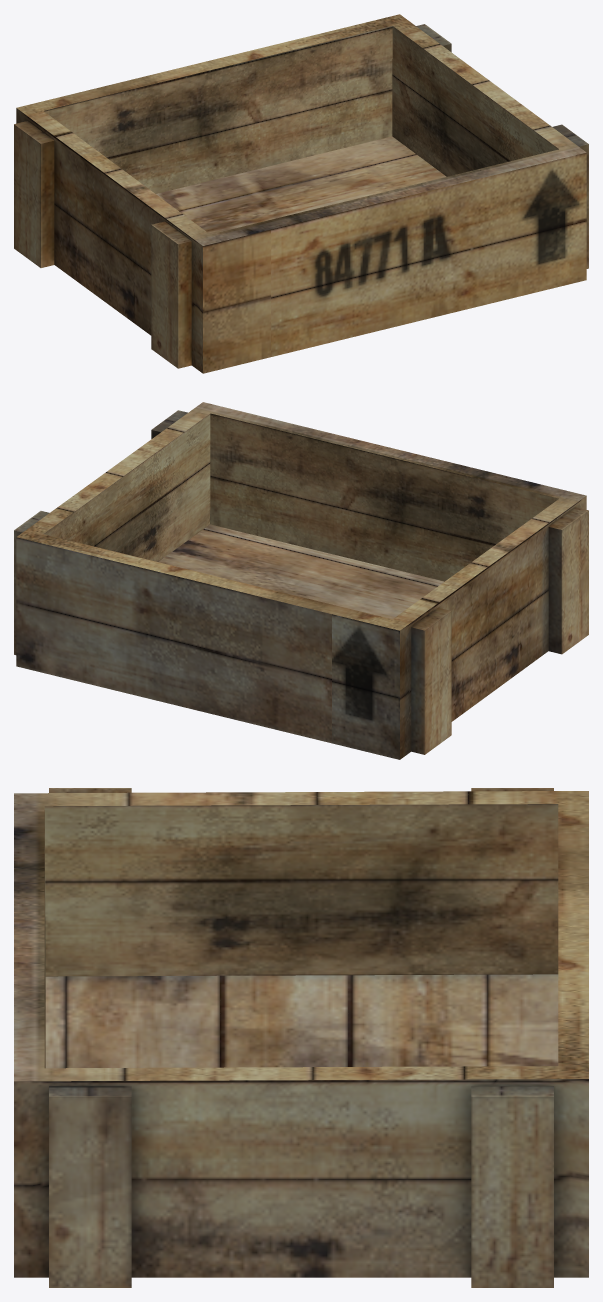
Rendered from MediumTank_Gear_Crate_02_Open.FBX.
3 renders of one model, top to bottom at view 1: azimuth 30°, elevation 25°; view 2: azimuth 150°, elevation 25°; view 3: azimuth 270°, elevation 25°, orthographic. The views are drawn at different scales.
Parts seen in each view (by area): view 1: MediumTank_Gear_Crate_02_Open; view 2: MediumTank_Gear_Crate_02_Open; view 3: MediumTank_Gear_Crate_02_Open.
Part boxes in pixels (x1,y1,x2,y2): MediumTank_Gear_Crate_02_Open: [14, 14, 588, 373]; MediumTank_Gear_Crate_02_Open: [14, 402, 588, 759]; MediumTank_Gear_Crate_02_Open: [14, 788, 588, 1287].
Bounding box in the file's own units: 0.7106 × 0.2135 × 0.5598.
